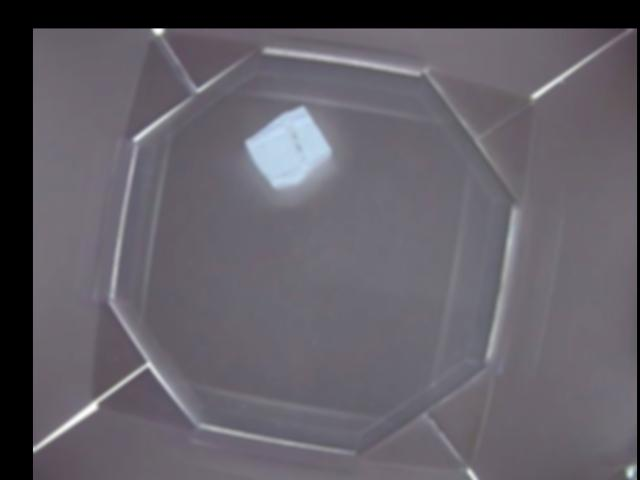China: (246, 106, 333, 186)
